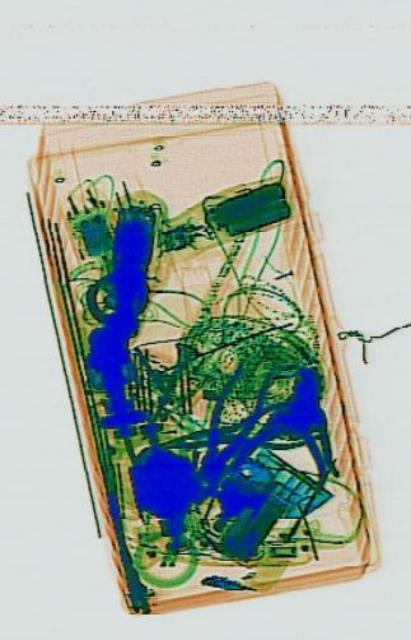Pliers: (183, 336, 276, 502), (153, 391, 324, 471)
